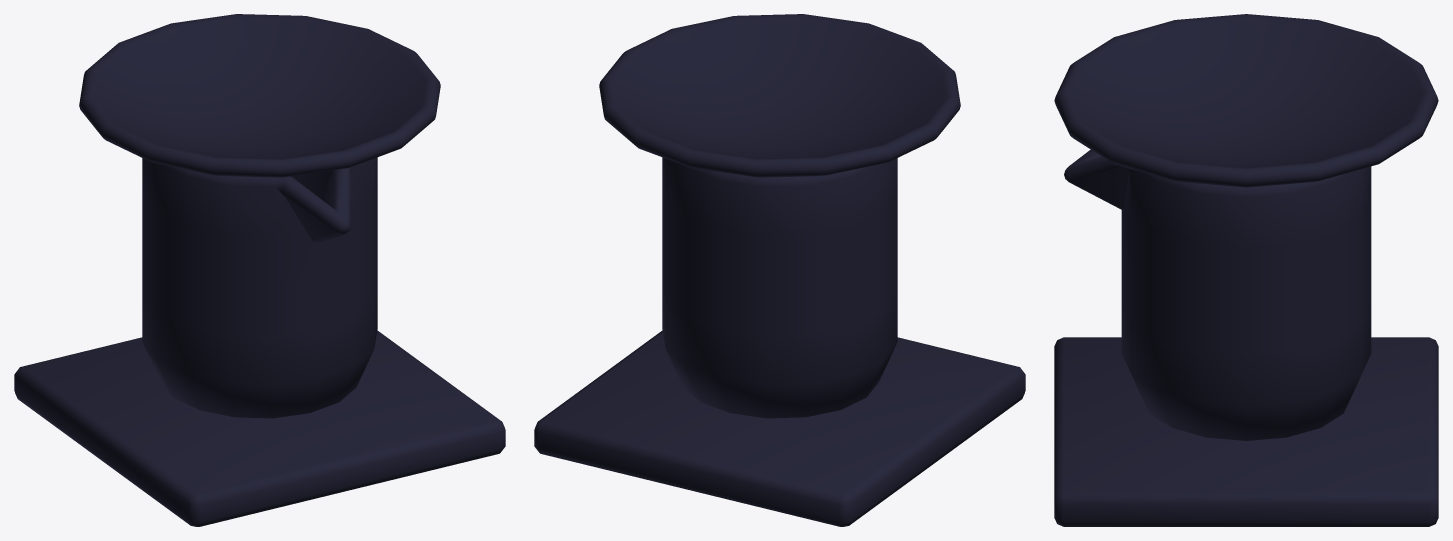
Rendered from Constructing_Incubator.fbx.
3 renders of one model, left to right at view 1: azimuth 30°, elevation 25°; view 2: azimuth 150°, elevation 25°; view 3: azimuth 270°, elevation 25°, orthographic. The views are drawn at different scales.
Parts seen in each view (by area): view 1: Stand_Base_Small001; view 2: Stand_Base_Small001; view 3: Stand_Base_Small001.
Part boxes in pixels (x1,y1,x2,y2): Stand_Base_Small001: (14, 14, 505, 526); Stand_Base_Small001: (534, 14, 1025, 526); Stand_Base_Small001: (1054, 14, 1438, 526).
Bounding box in the file's own units: 100 × 103 × 100.
